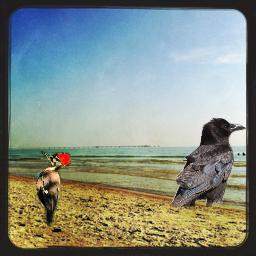Crow: (169, 117, 247, 207)
Woodpecker: (32, 151, 71, 227)
